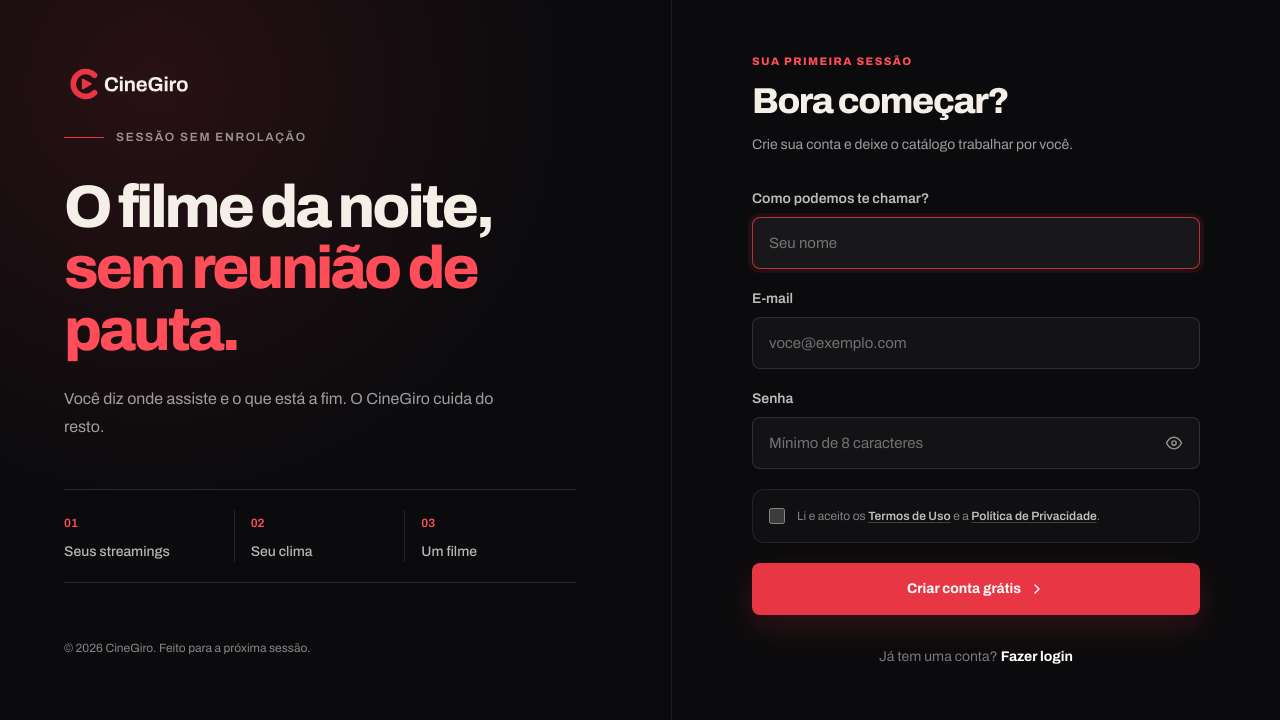
Test case: authentication pages › registers with browser metadata and redirects to email verification
Type "Pessoa" into the field labelled "Como podemos te chamar?".
click(976, 243); type("Pessoa")  # box [752,217,1200,269]
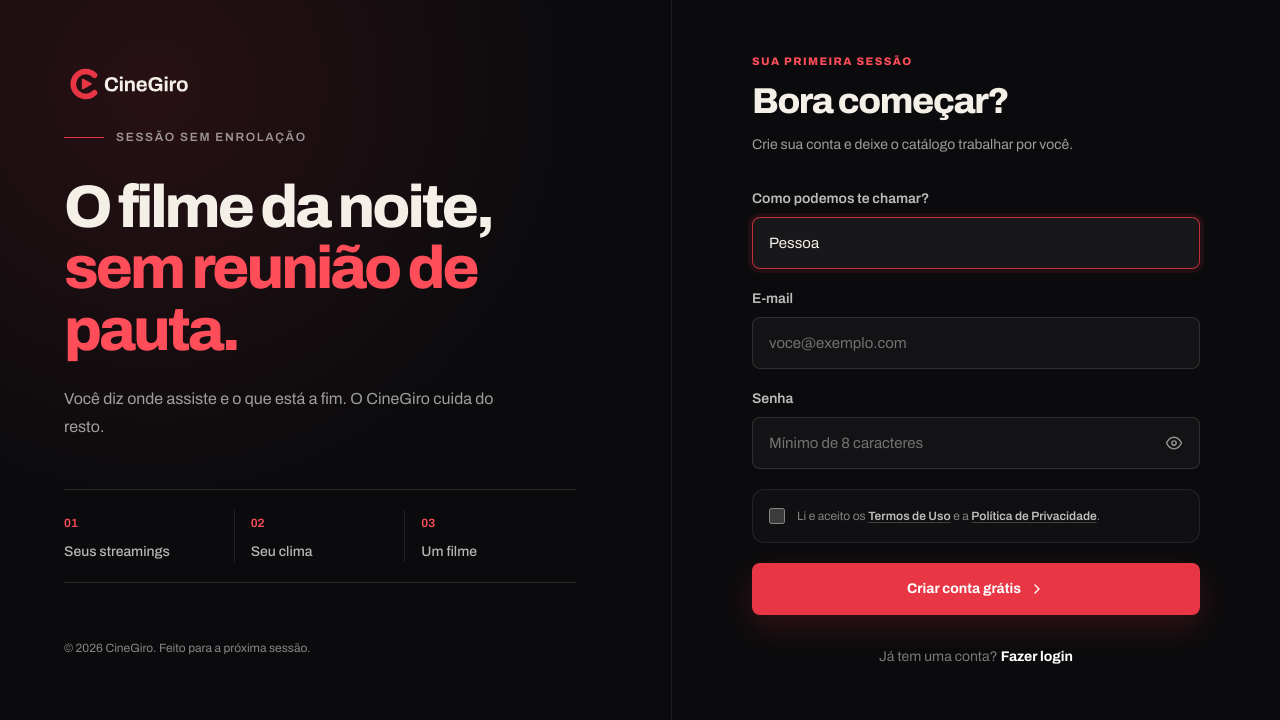
Type "person@cinegiro.app" into the field labelled "E-mail".
click(976, 343); type("person@cinegiro.app")  # box [752,317,1200,369]
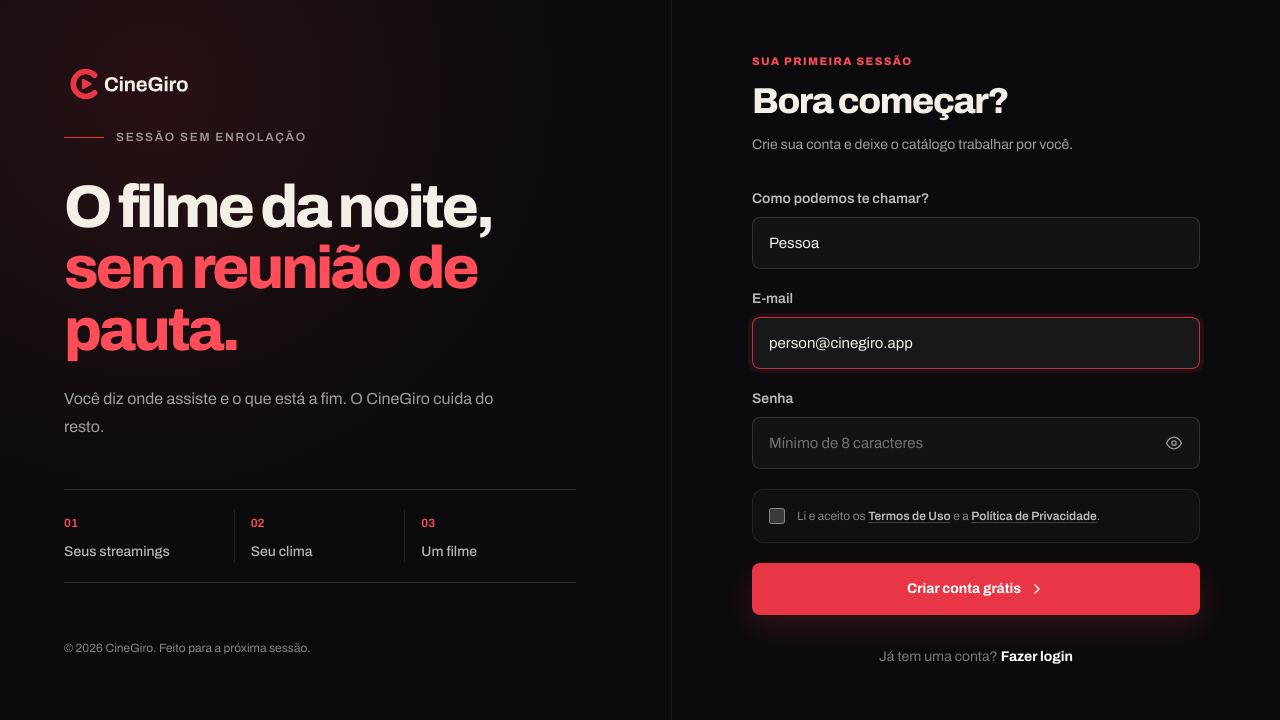
Type "password-123" into the password field labelled "Senha".
click(976, 443); type("password-123")  # box [752,417,1200,469]
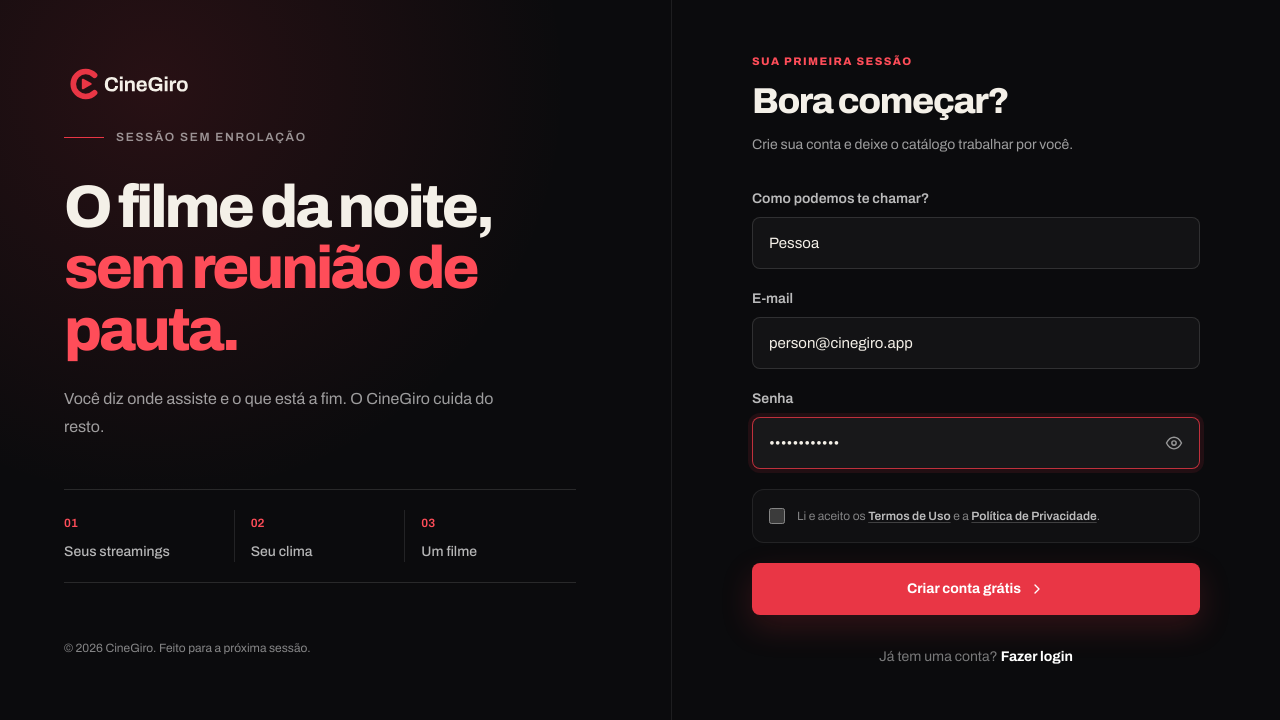
Click the checkbox.
click(777, 516)  # box [769,508,785,524]
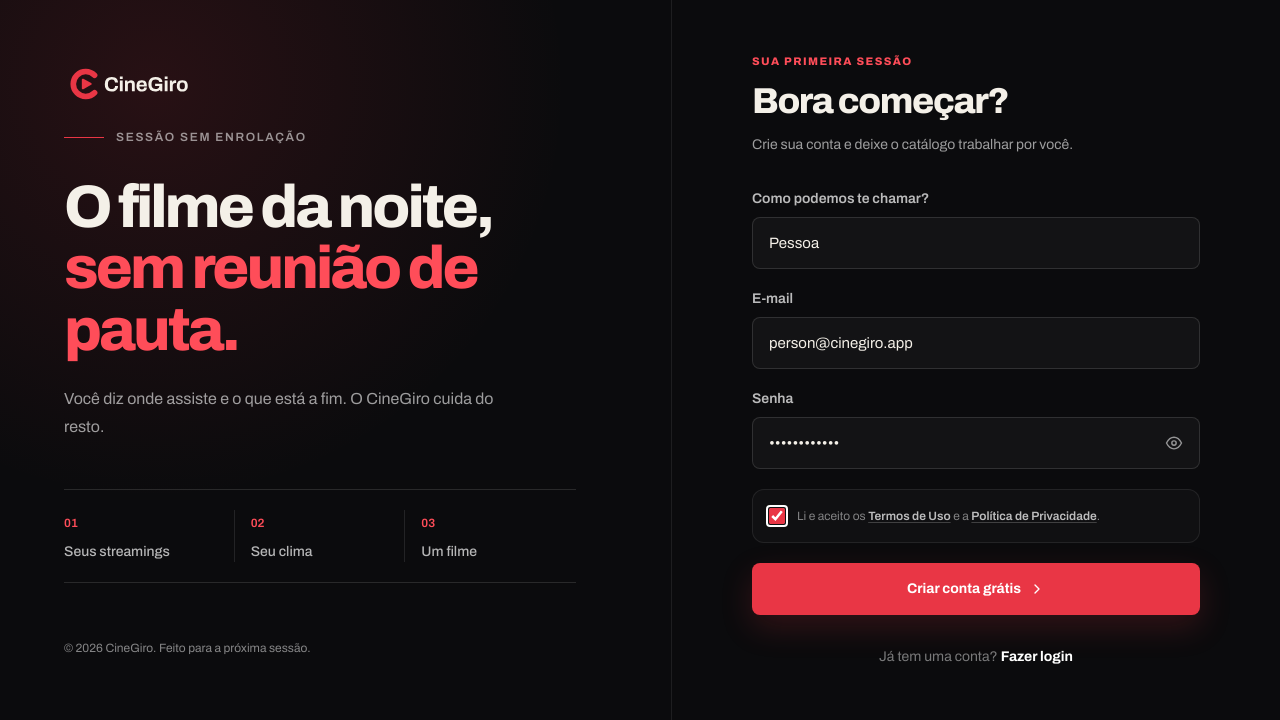
Click the button "Criar conta grátis".
click(976, 589)  # box [752,563,1200,615]
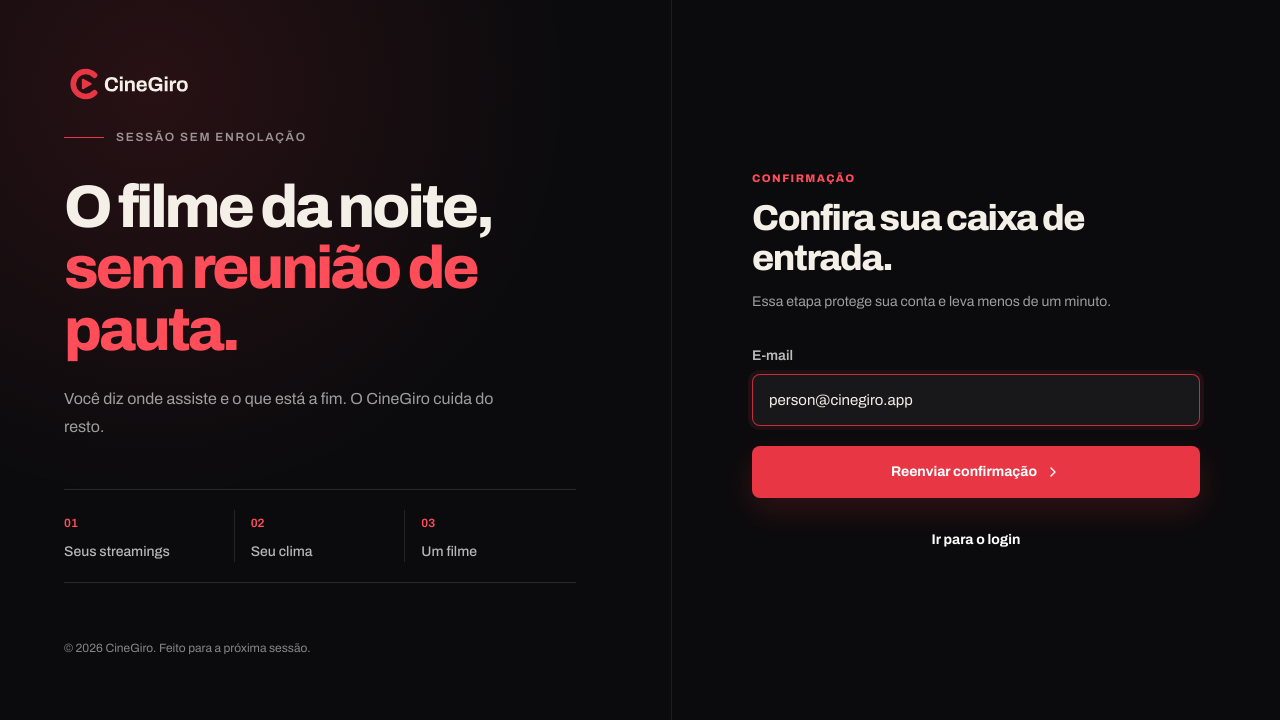
Now the heading "Confira sua caixa de entrada." is shown, box [752,198,1084,278]
Now the field showing "person@cinegiro.app" is shown, box [752,374,1200,426]
